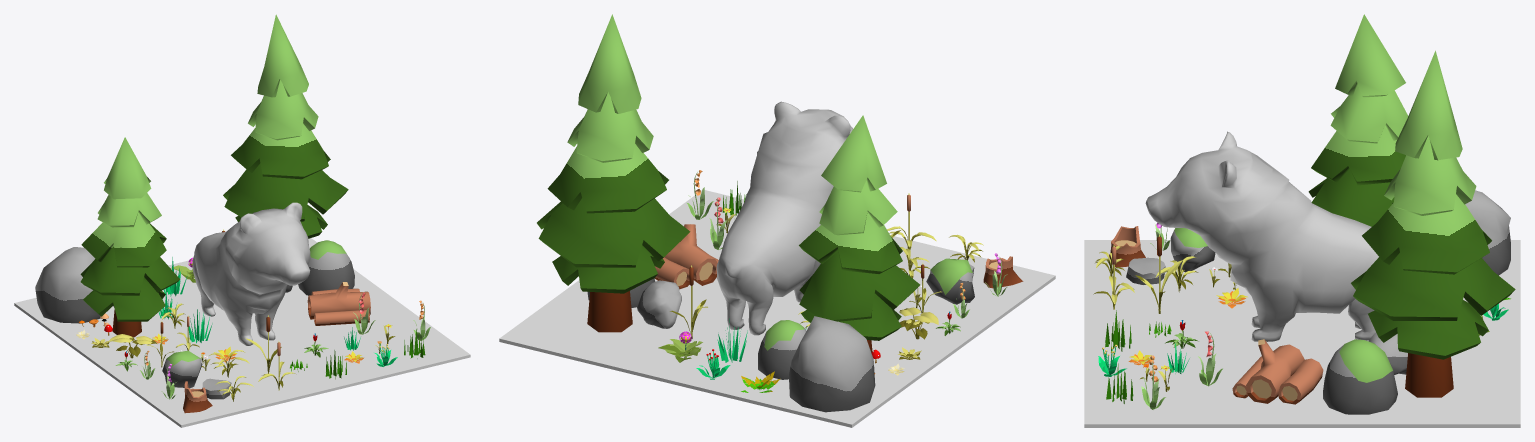
The model's file is BlackBear_Draw.fbx.
3 renders of one model, left to right at view 1: azimuth 30°, elevation 25°; view 2: azimuth 150°, elevation 25°; view 3: azimuth 270°, elevation 25°, orthographic. The views are drawn at different scales.
Parts seen in each view (by area): view 1: BlackBear_Plane, BlackBear_Draw; view 2: BlackBear_Plane, BlackBear_Draw; view 3: BlackBear_Plane, BlackBear_Draw.
Part boxes in pixels (x1,y1,x2,y2): BlackBear_Plane: [14, 14, 470, 427]; BlackBear_Draw: [192, 202, 310, 345]; BlackBear_Plane: [499, 14, 1055, 427]; BlackBear_Draw: [716, 101, 852, 335]; BlackBear_Plane: [1084, 14, 1520, 427]; BlackBear_Draw: [1145, 131, 1378, 341].
Bounding box in the file's own units: 1278 × 1097 × 1278.
